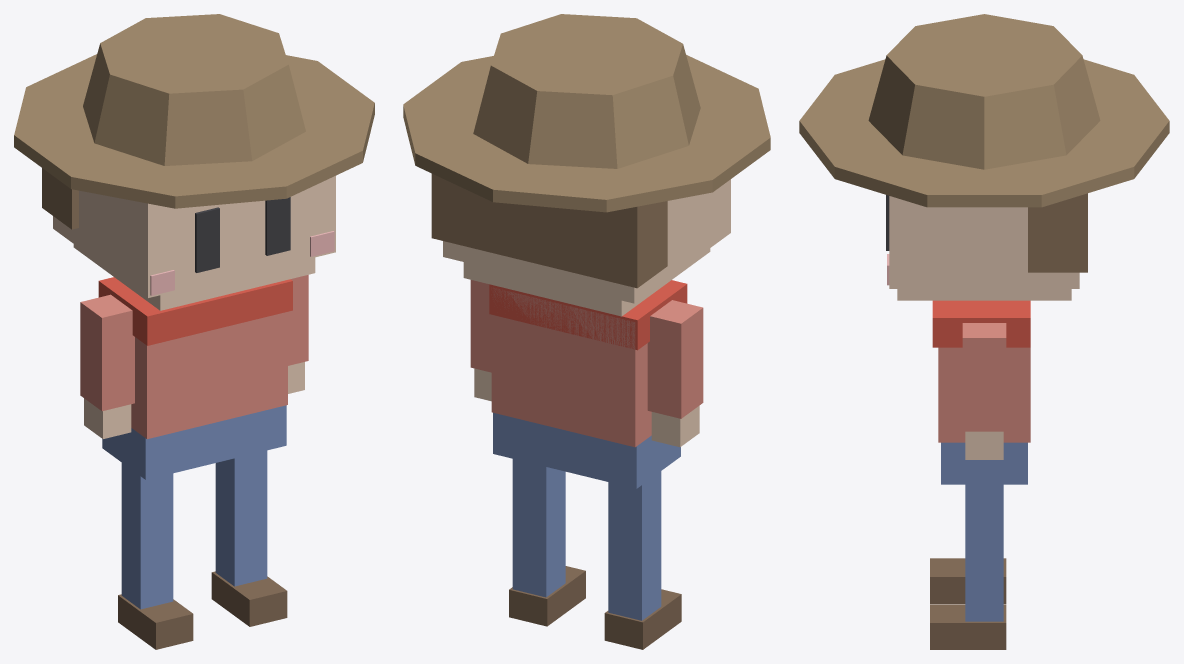
File: cowboy.glb
3 renders of one model, left to right at view 1: azimuth 30°, elevation 25°; view 2: azimuth 150°, elevation 25°; view 3: azimuth 270°, elevation 25°, orthographic.
Parts seen in each view (by area): view 1: cowboy; view 2: cowboy; view 3: cowboy.
Boxes of the visible parts, box(x1,y1,x2,y2) form: cowboy: box(14, 14, 374, 649); cowboy: box(403, 14, 770, 649); cowboy: box(799, 14, 1169, 649).
Size of the model in its own units: 0.8795 by 1.55 by 0.9248.
